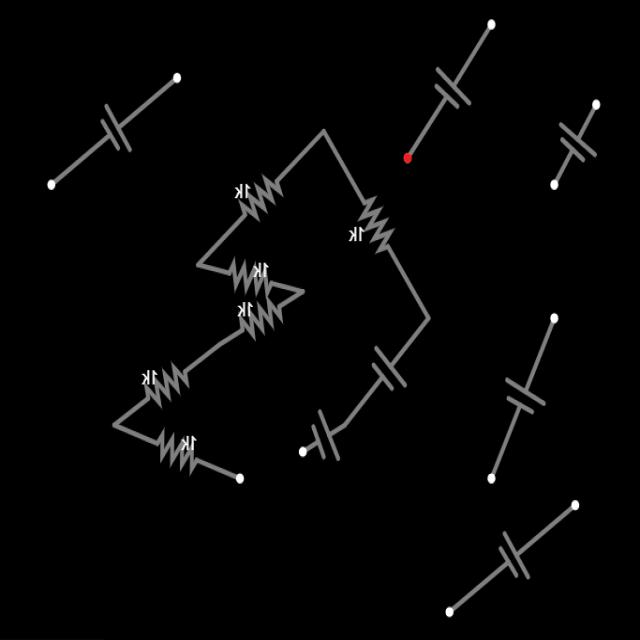Battery: (370, 340, 410, 393), (556, 118, 600, 165), (431, 64, 473, 112), (98, 100, 134, 154), (497, 522, 531, 578), (503, 376, 551, 415), (309, 407, 340, 462)
Resistor: (224, 254, 274, 300), (237, 292, 282, 340), (359, 196, 394, 252), (145, 363, 189, 407), (240, 175, 282, 221), (156, 428, 195, 474)
Wire: (318, 118, 364, 199), (516, 500, 579, 558), (119, 72, 183, 128), (192, 208, 249, 270), (387, 241, 431, 319), (49, 134, 110, 190), (445, 564, 508, 617), (401, 97, 446, 167), (454, 16, 497, 84), (331, 377, 381, 434), (186, 324, 246, 371), (486, 406, 521, 485), (276, 129, 325, 185), (525, 314, 561, 389), (393, 314, 431, 370), (109, 391, 149, 427), (193, 454, 243, 482), (115, 421, 158, 449), (549, 151, 574, 193), (578, 99, 600, 140), (273, 286, 308, 308), (196, 261, 228, 275), (269, 282, 303, 295), (299, 440, 315, 458)
